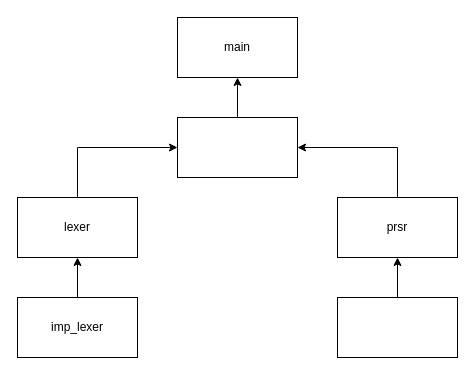
This 475x375 diagram has some shape labels left out. The box of each missing label's shape, as (x1, y1, x2, y2) in pixels:
parserHTML: (176, 116, 298, 178)
prsr_driver: (336, 296, 458, 358)
